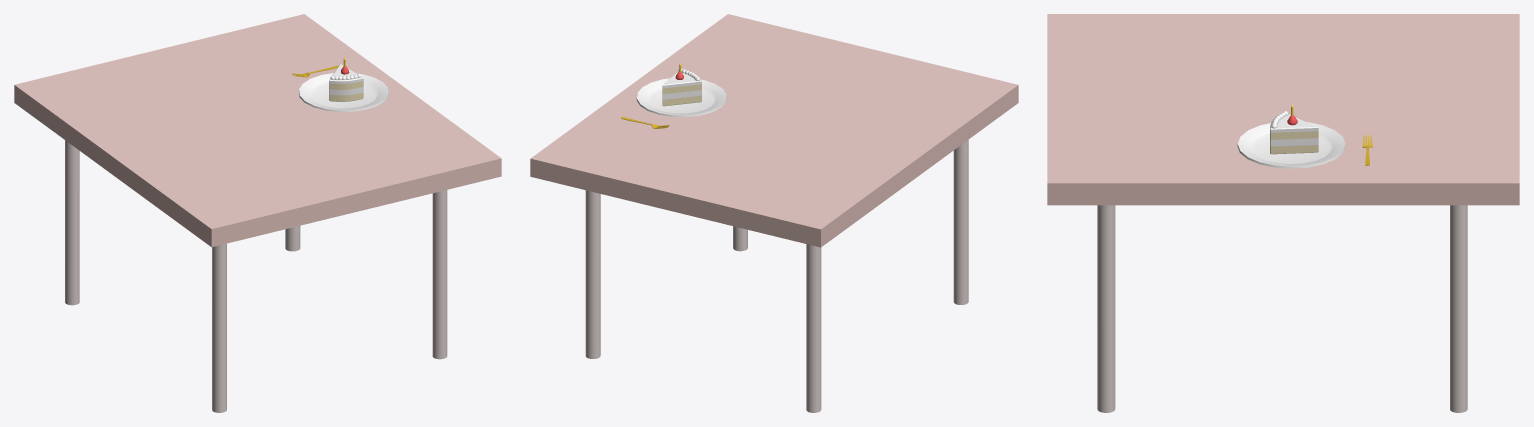
Rendered from TableSet.fbx.
3 views of the same model, side by side, from view 1: azimuth 30°, elevation 25°; view 2: azimuth 150°, elevation 25°; view 3: azimuth 270°, elevation 25° (orthographic). The views are drawn at different scales.
Parts seen in each view (by area): view 1: TableTop, TableLeg5, Plate, Cake; view 2: TableTop, TableLeg5, Plate, Cake; view 3: TableTop, TableLeg5, Plate, Cake.
Boxes of the visible parts, x1=… form: TableTop: x1=14, y1=14, x2=501, y2=247; TableLeg5: x1=65, y1=140, x2=447, y2=412; Plate: x1=298, y1=73, x2=388, y2=111; Cake: x1=329, y1=64, x2=363, y2=101; TableTop: x1=530, y1=14, x2=1018, y2=247; TableLeg5: x1=585, y1=140, x2=968, y2=412; Plate: x1=636, y1=78, x2=726, y2=117; Cake: x1=662, y1=71, x2=701, y2=106; TableTop: x1=1047, y1=14, x2=1519, y2=205; TableLeg5: x1=1097, y1=205, x2=1467, y2=412; Plate: x1=1237, y1=122, x2=1345, y2=168; Cake: x1=1270, y1=114, x2=1318, y2=154.
Bounding box in the file's own units: 1784 × 1451 × 2101.
